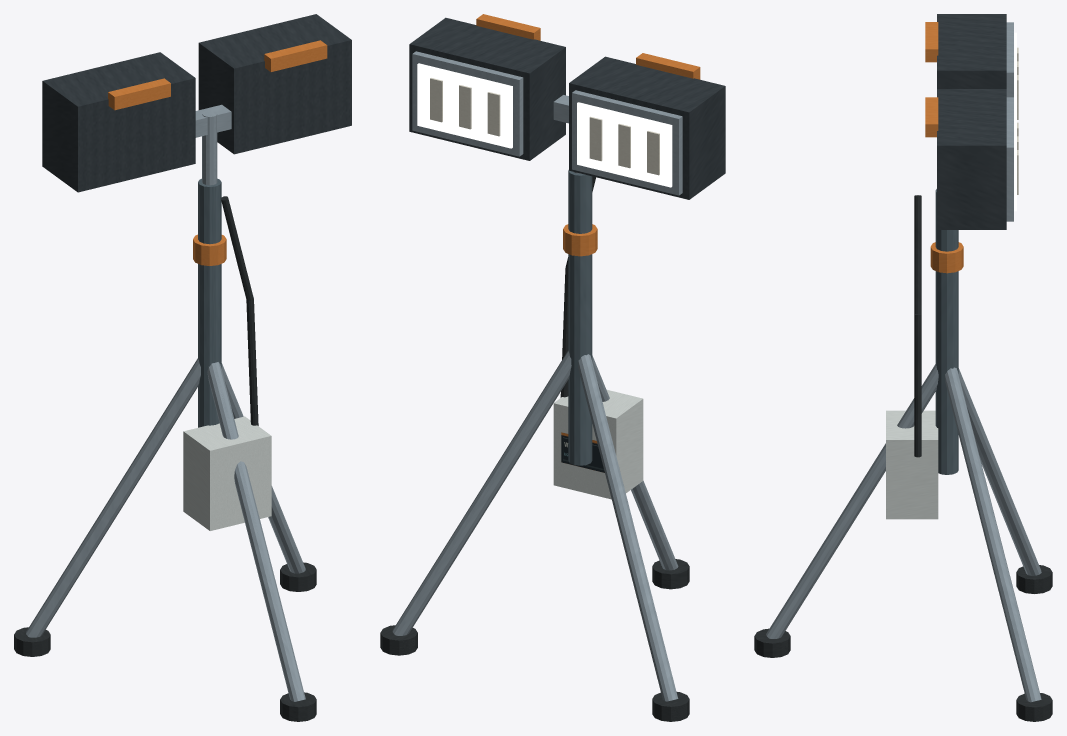
The model's file is portable_work_light.glb.
The picture shows the model from 3 angles, left to right: view 1: azimuth 30°, elevation 25°; view 2: azimuth 150°, elevation 25°; view 3: azimuth 270°, elevation 25°; orthographic projection. The views are drawn at different scales.
Parts seen in each view (by area): view 1: lamp_housing_graphite, tripod_legs_steel, portable_battery_ceramic, telescoping_post_metal_dark, tripod_feet_rubber, handle_brackets_orange, power_cable_rubber, extension_post_steel, post_clamp_orange, lamp_yoke_steel; view 2: lamp_housing_graphite, tripod_legs_steel, lamp_diffusers_lamp, lamp_bezel_steel, telescoping_post_metal_dark, portable_battery_ceramic, led_array_white, tripod_feet_rubber, handle_brackets_orange, post_clamp_orange, power_cable_rubber, worklight_label_LABEL_WORK; view 3: lamp_housing_graphite, tripod_legs_steel, portable_battery_ceramic, telescoping_post_metal_dark, tripod_feet_rubber, power_cable_rubber, lamp_bezel_steel, handle_brackets_orange, post_clamp_orange, lamp_diffusers_lamp.
Boxes of the visible parts, x1,y1,x2,y2 form: lamp_housing_graphite: (42,14,351,192); tripod_legs_steel: (26,358,305,701); portable_battery_ceramic: (183,416,271,530); telescoping_post_metal_dark: (198,178,221,427); tripod_feet_rubber: (14,562,316,721); handle_brackets_orange: (108,40,327,110); power_cable_rubber: (221,196,258,425); extension_post_steel: (202,110,217,185); post_clamp_orange: (193,234,226,265); lamp_yoke_steel: (195,104,231,137); lamp_housing_graphite: (409,17,725,199); tripod_legs_steel: (392,350,678,701); lamp_diffusers_lamp: (417,63,672,187); lamp_bezel_steel: (412,51,682,195); telescoping_post_metal_dark: (568,170,592,465); portable_battery_ceramic: (553,390,643,499); led_array_white: (430,78,659,175); tripod_feet_rubber: (380,559,689,721); handle_brackets_orange: (476,14,700,79); post_clamp_orange: (563,224,597,256); power_cable_rubber: (560,176,595,397); worklight_label_LABEL_WORK: (561,432,604,472); lamp_housing_graphite: (937,14,1006,229); tripod_legs_steel: (766,364,1041,702); portable_battery_ceramic: (886,410,938,519); telescoping_post_metal_dark: (935,189,958,474); tripod_feet_rubber: (754,565,1052,721); power_cable_rubber: (914,195,921,457); lamp_bezel_steel: (1006,22,1013,221); handle_brackets_orange: (925,22,938,137); post_clamp_orange: (930,242,963,273); lamp_diffusers_lamp: (1014,32,1016,211).
Size of the model in its own units: 1.16 by 2.19 by 1.02.
Materials: 9 (9 with a texture image).
